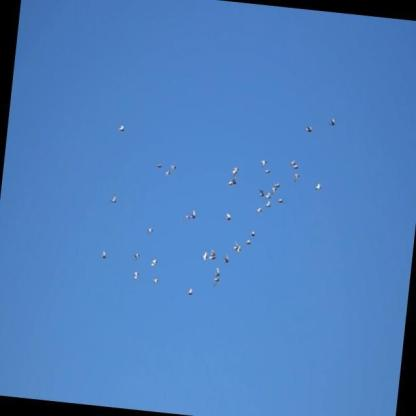bird: (232, 239, 243, 254), (200, 248, 209, 265), (226, 174, 237, 187), (108, 192, 118, 204), (212, 267, 222, 278), (150, 257, 158, 270), (189, 207, 196, 220), (209, 250, 216, 263), (132, 252, 141, 262), (117, 123, 125, 134), (315, 181, 323, 192), (222, 253, 230, 264), (99, 249, 107, 260), (186, 287, 194, 298), (304, 125, 313, 134), (231, 165, 240, 174), (154, 160, 163, 169), (270, 186, 278, 196), (146, 226, 154, 236), (212, 277, 220, 287), (132, 270, 140, 280), (258, 188, 265, 199), (169, 163, 177, 172), (293, 173, 300, 183), (261, 157, 267, 168), (265, 191, 272, 200), (245, 237, 252, 246), (225, 212, 231, 222), (276, 198, 284, 205), (329, 117, 335, 126), (289, 158, 295, 167), (265, 200, 271, 209), (152, 278, 159, 285), (183, 214, 189, 222), (293, 163, 299, 170), (265, 169, 272, 175), (164, 170, 170, 177), (257, 207, 263, 214), (250, 230, 256, 237), (274, 182, 280, 188)
